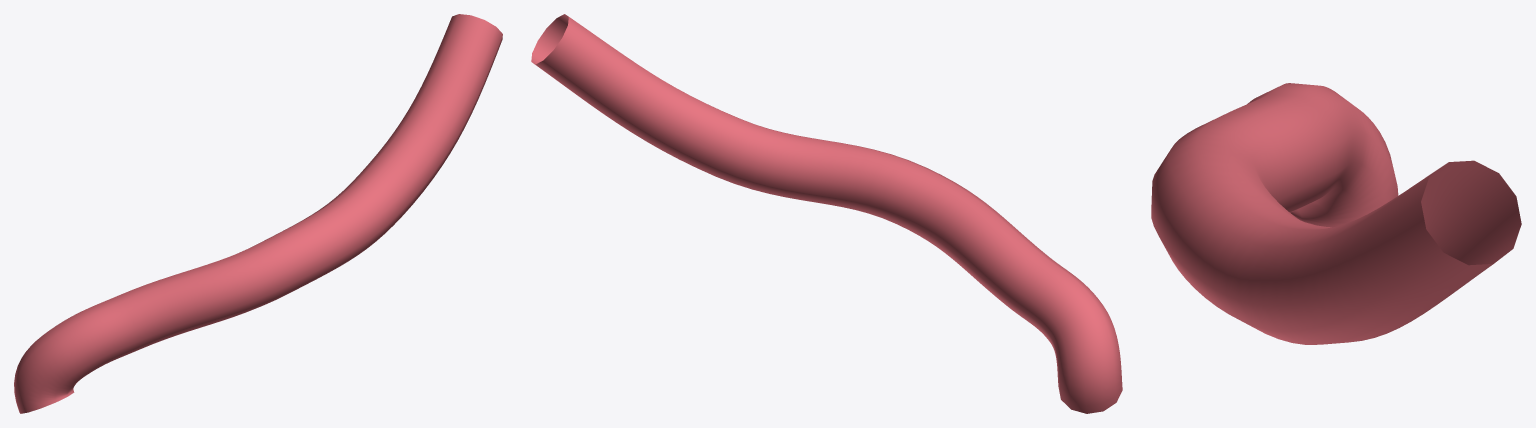
3 renders of one model, left to right at view 1: azimuth 30°, elevation 25°; view 2: azimuth 150°, elevation 25°; view 3: azimuth 270°, elevation 25°, orthographic. The views are drawn at different scales.
Parts seen in each view (by area): view 1: ZA_0970415ca3c01aa1; view 2: ZA_0970415ca3c01aa1; view 3: ZA_0970415ca3c01aa1.
Boxes of the visible parts, x1,y1,x2,y2 form: ZA_0970415ca3c01aa1: (14, 14, 502, 413); ZA_0970415ca3c01aa1: (531, 14, 1122, 413); ZA_0970415ca3c01aa1: (1151, 83, 1521, 344).
Bounding box in the file's own units: 0.0295 × 0.0148 × 0.00926.
